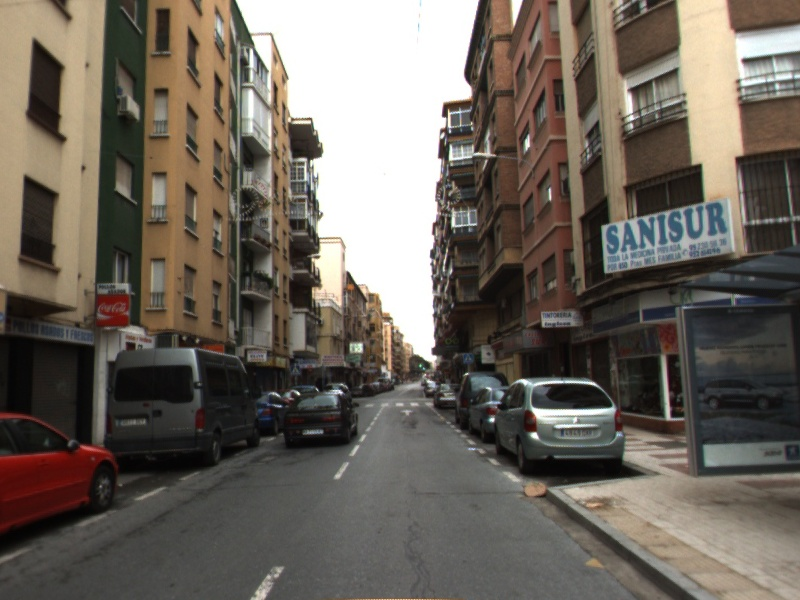STRAIGHT: (398, 407, 416, 418)
